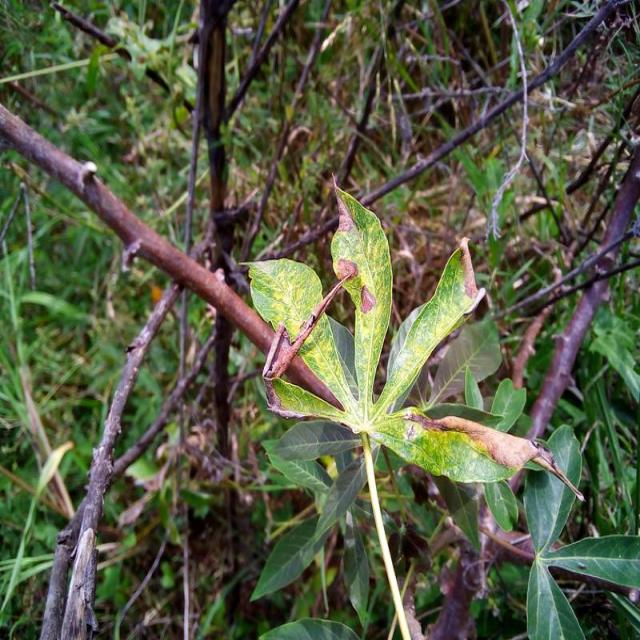cassava leaf: (242, 172, 584, 636), (371, 236, 486, 419), (370, 404, 584, 500), (240, 256, 360, 421), (329, 172, 393, 412)
